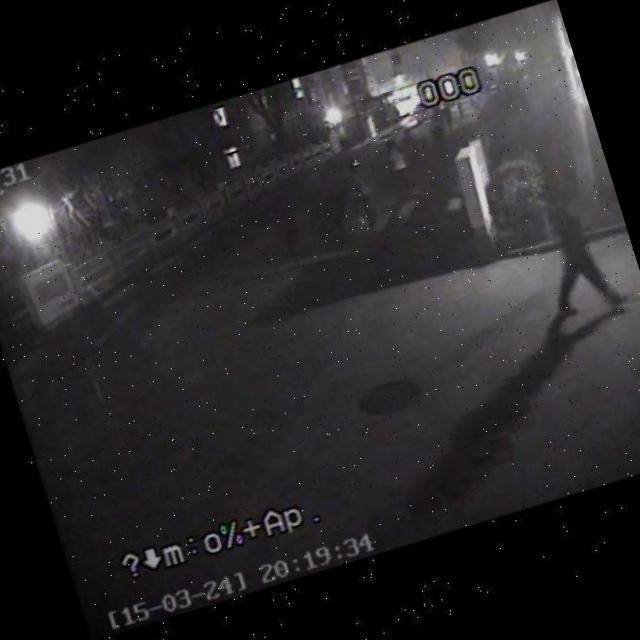person: (516, 172, 638, 330), (255, 174, 314, 268), (312, 170, 359, 248), (375, 137, 421, 200), (343, 156, 384, 225)
